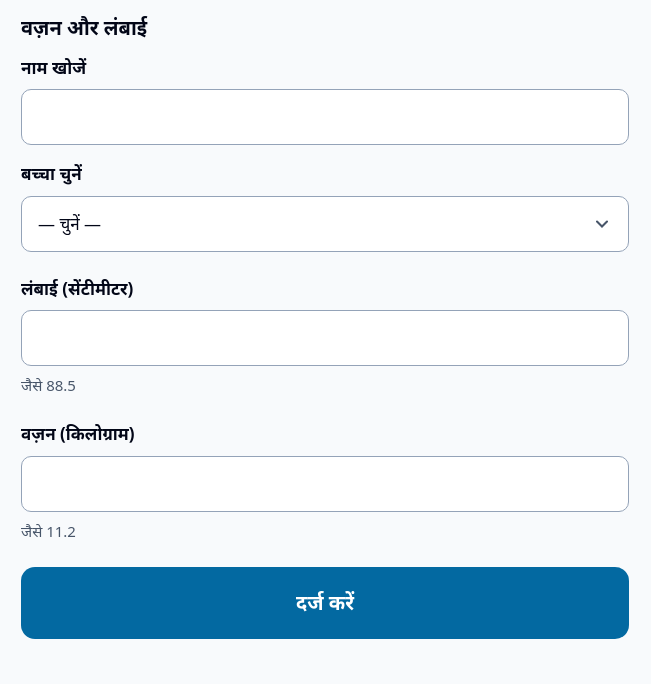
Growth screen › rejects a non-numeric measurement with a recoverable message
Select "कमला डामोर — 3साल" in the dropdown labelled "बच्चा चुनें" at point(325, 224), box [21,196,629,252]
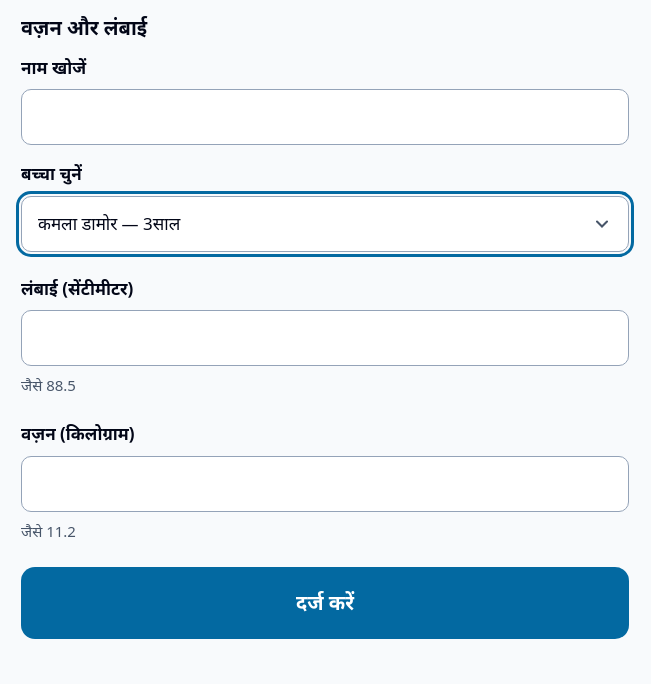
Type "abc" into the field labelled "लंबाई (सेंटीमीटर)" at point(325, 338), box [21,310,629,366]
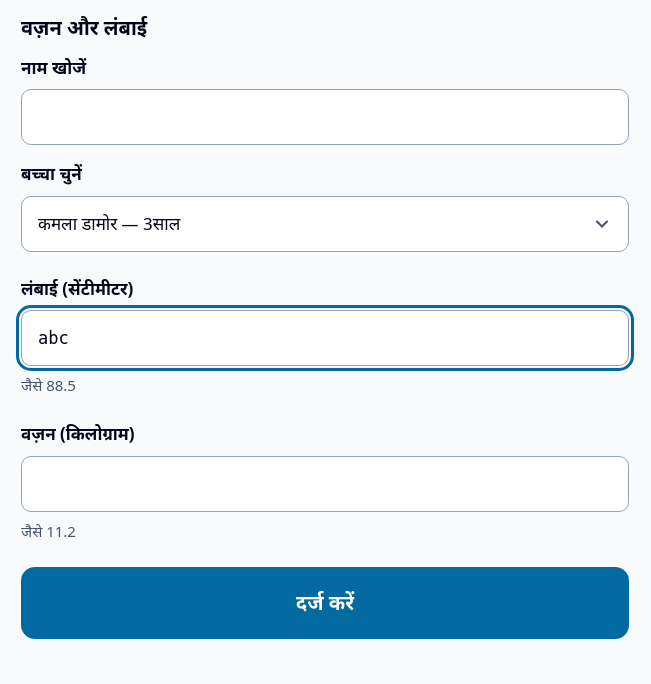
Type "11" into the field labelled "वज़न (किलोग्राम)" at point(325, 484), box [21,456,629,512]
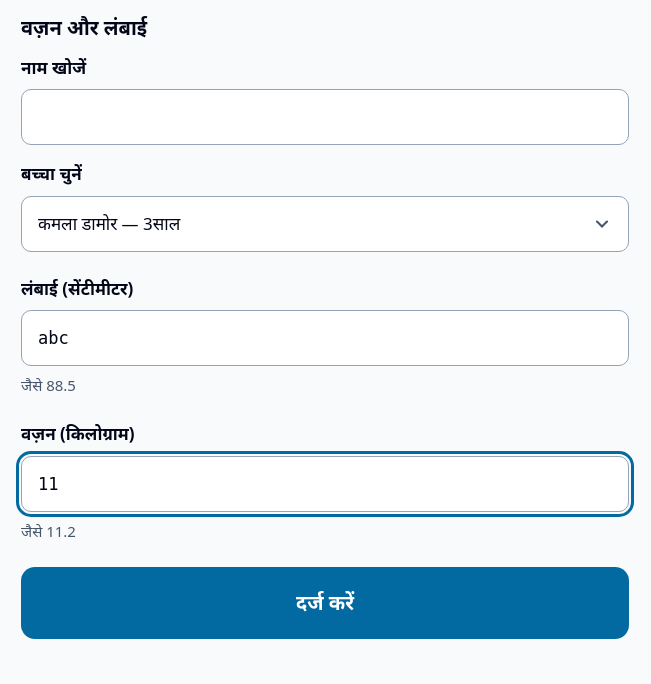
Click the button "दर्ज करें" at point(325, 603), box [21,567,629,639]
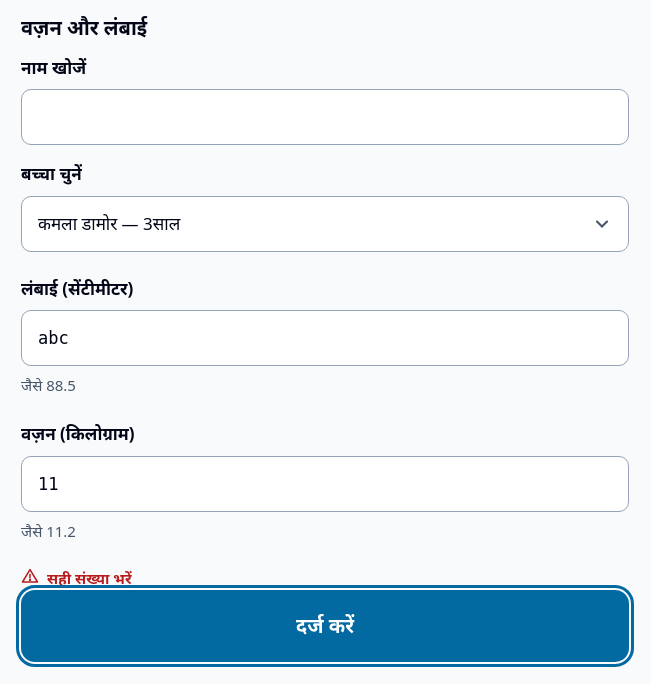
Result: the message reads "सही संख्या भरें" at [47,568,132,588]
